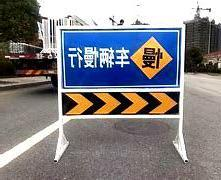sign: (58, 28, 182, 117)
